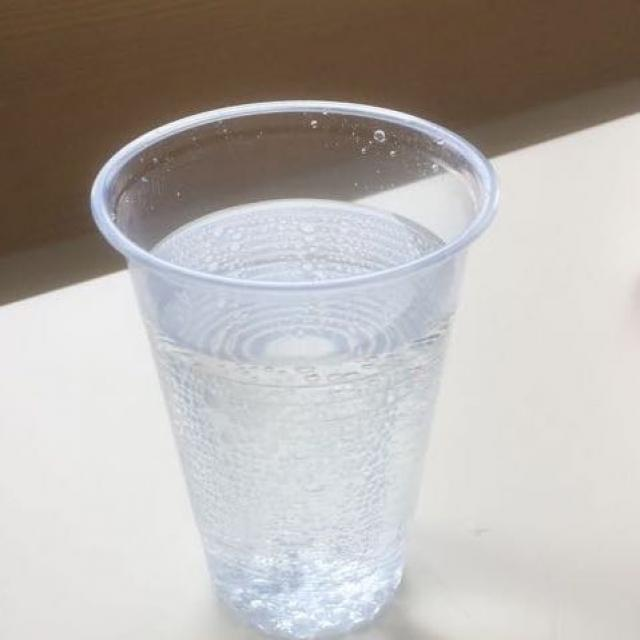water: (122, 141, 471, 623)
